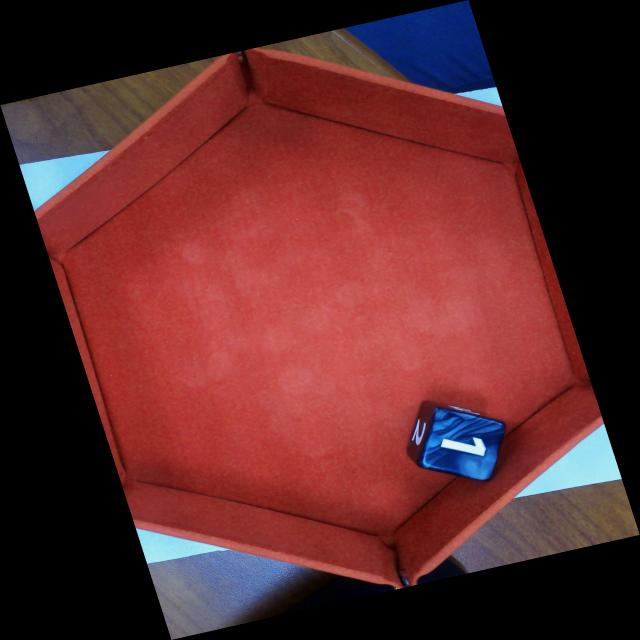dice: (419, 406, 509, 482)
